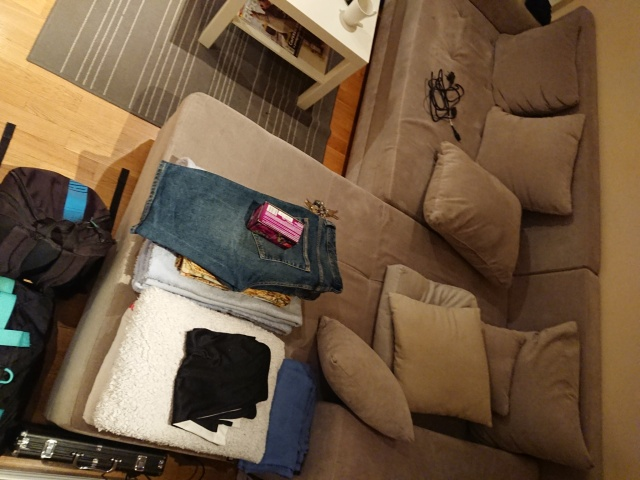Franck Black Currant Tea 60g: (243, 198, 307, 251)
